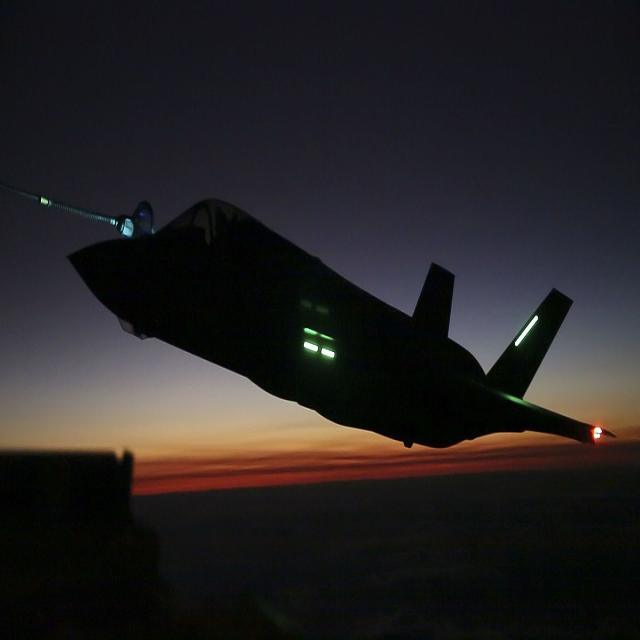MIL_Plane: (65, 194, 614, 452)
